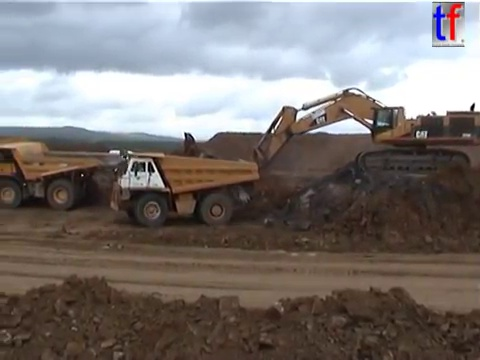excavator: (221, 85, 480, 206)
truck: (108, 148, 261, 228), (1, 138, 125, 211)
worker: (123, 149, 133, 170), (117, 152, 125, 169)
